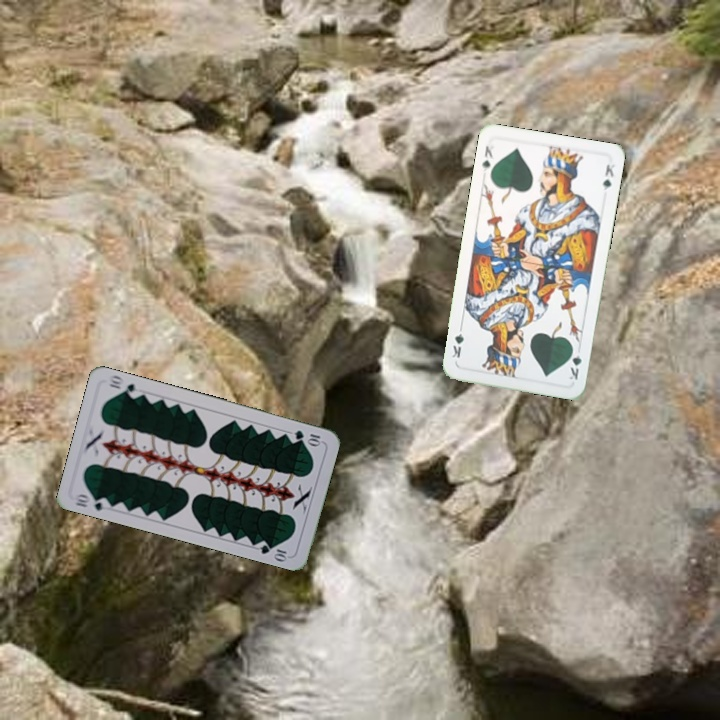G10: (71, 490, 112, 513), (290, 426, 324, 448)
GK: (565, 343, 584, 382), (478, 141, 496, 174)
